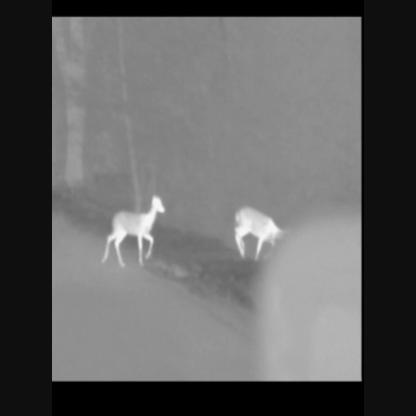rehkitze: (104, 192, 167, 269), (232, 204, 284, 263)
